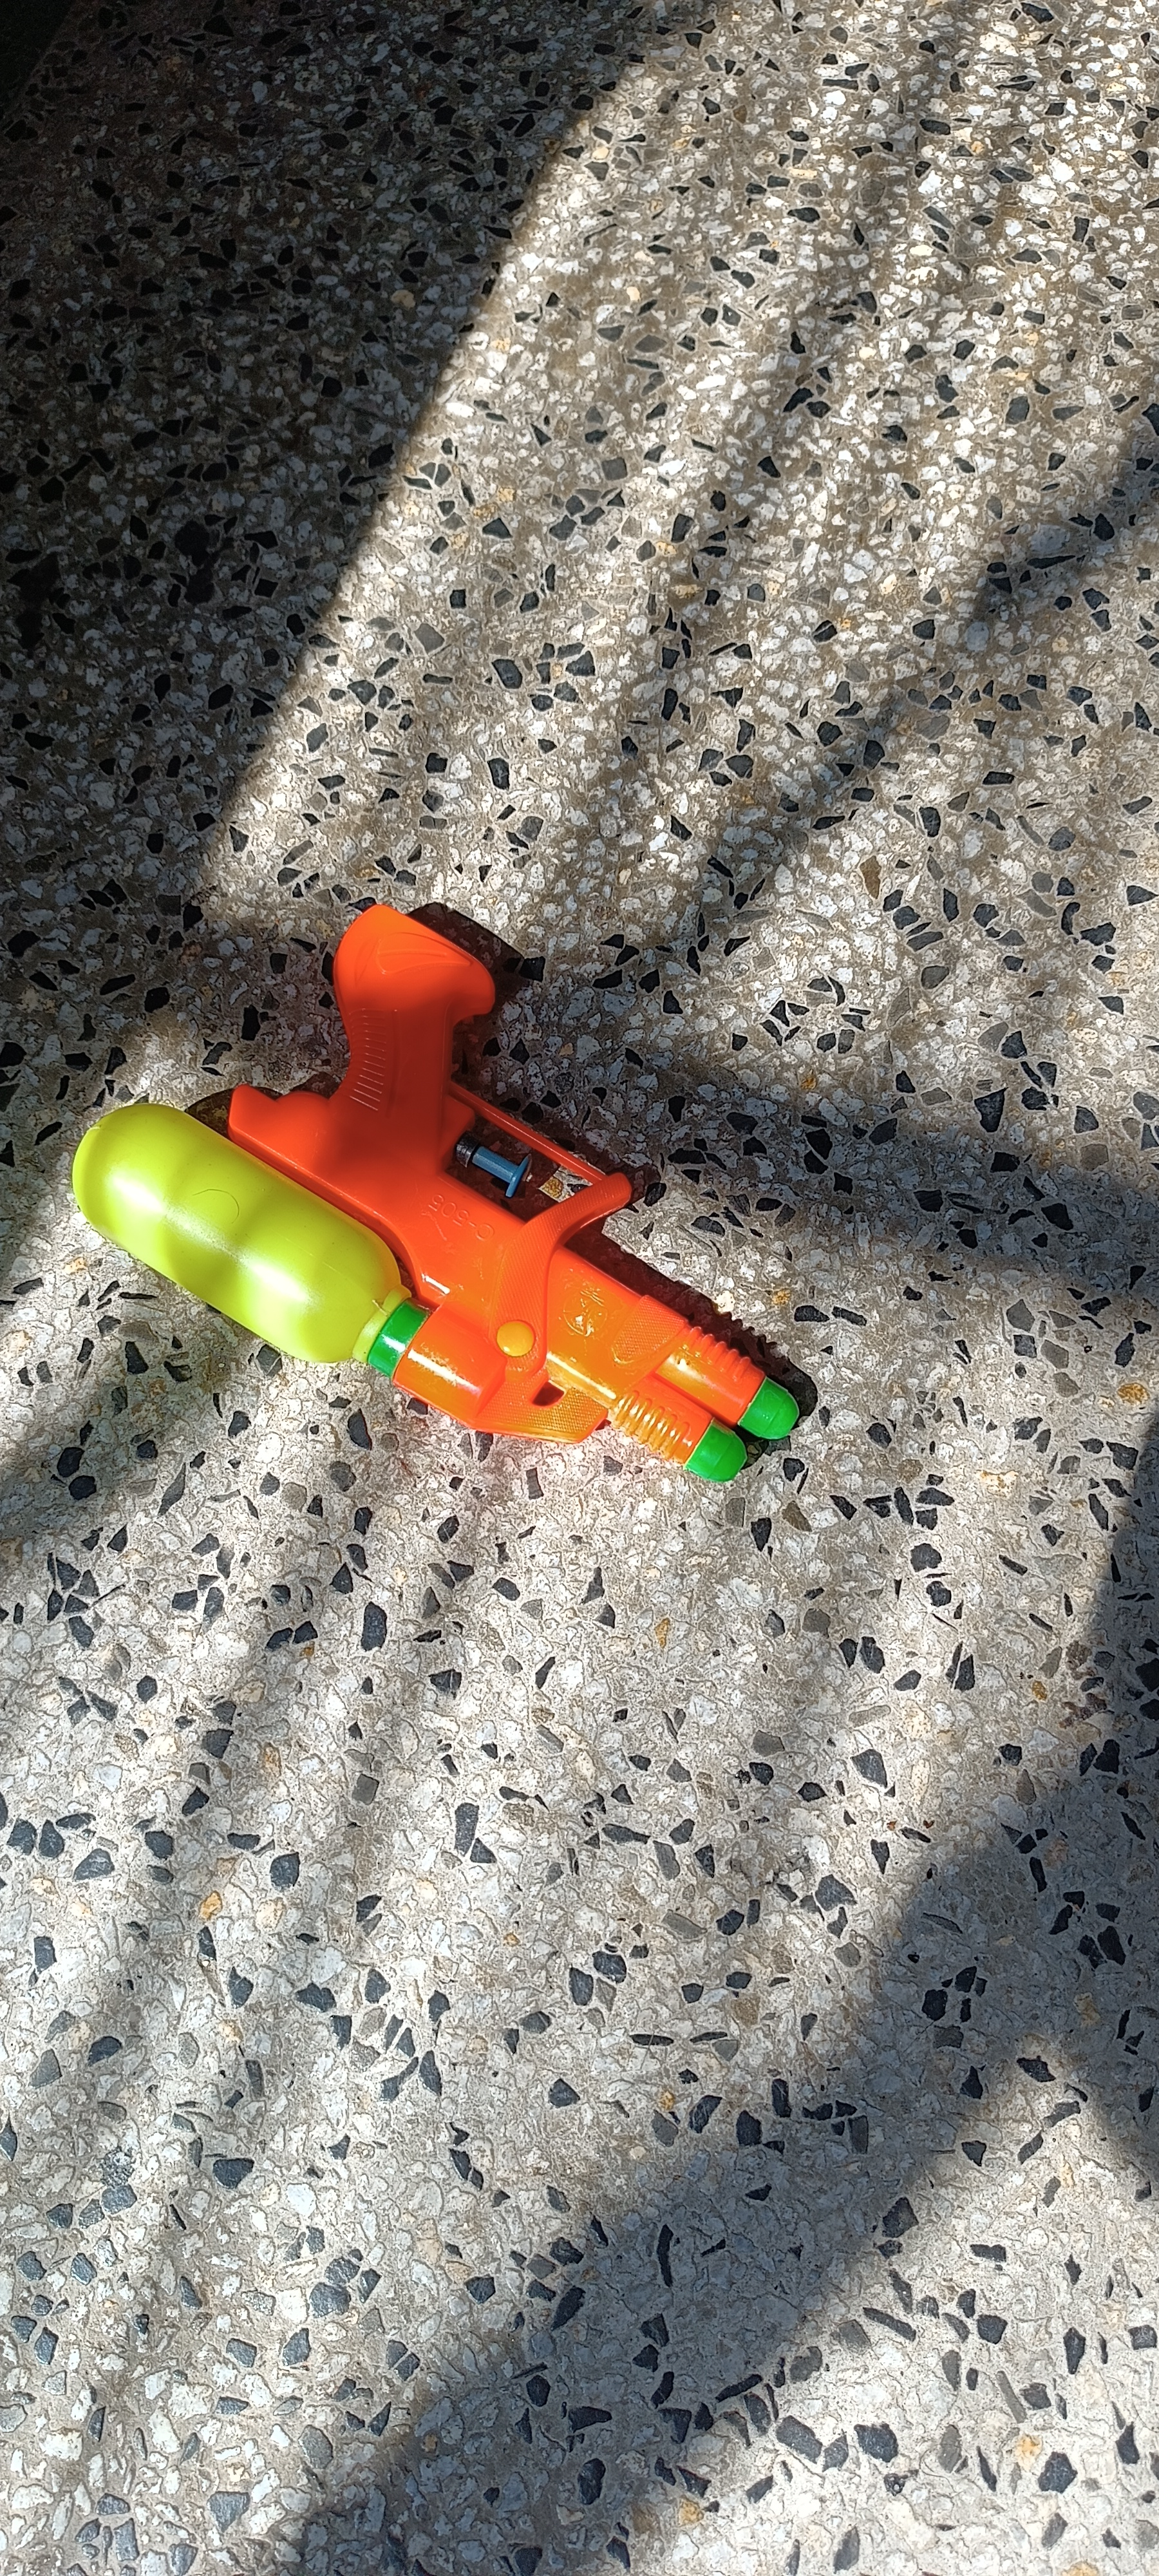Water Gun: (71, 904, 801, 1483)
